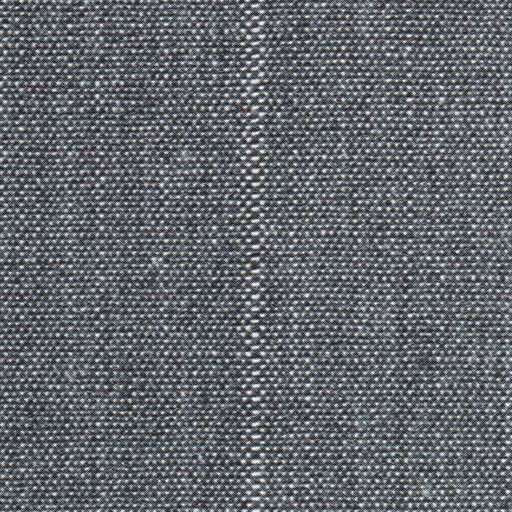slub: (233, 3, 282, 510)
